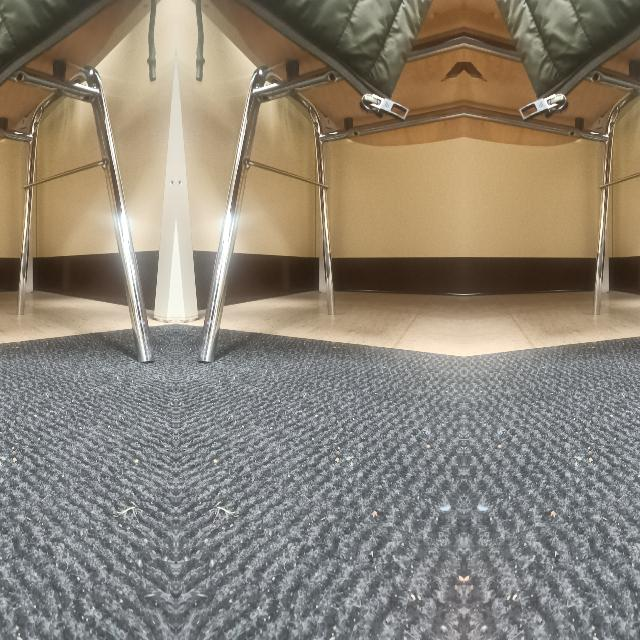obstacle: (198, 198, 240, 366), (110, 198, 152, 366)
